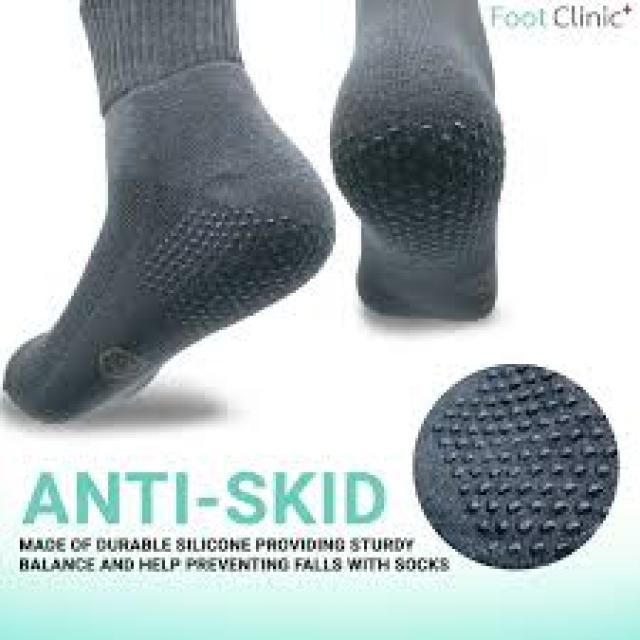sock: (327, 0, 504, 319)
